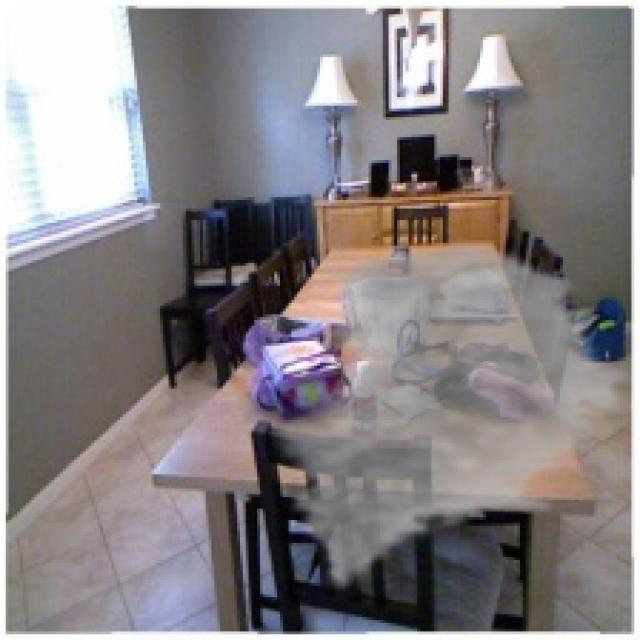smoke: (266, 237, 637, 592)
